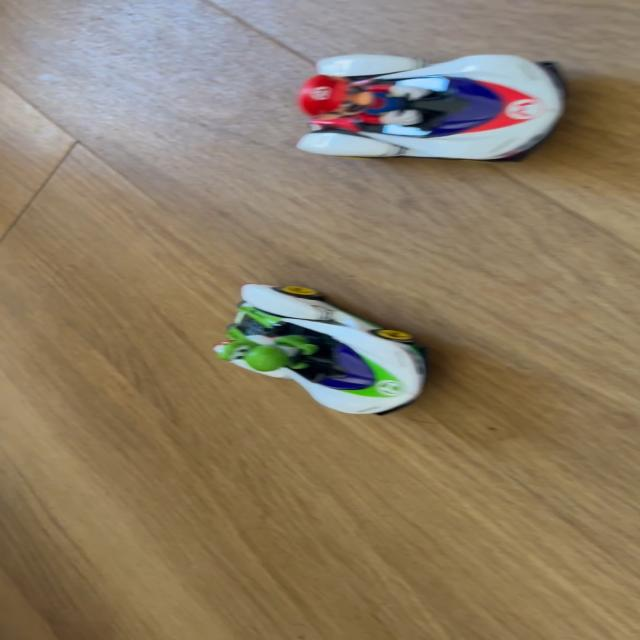mario: (285, 51, 588, 173)
yoshi: (191, 280, 448, 428)
